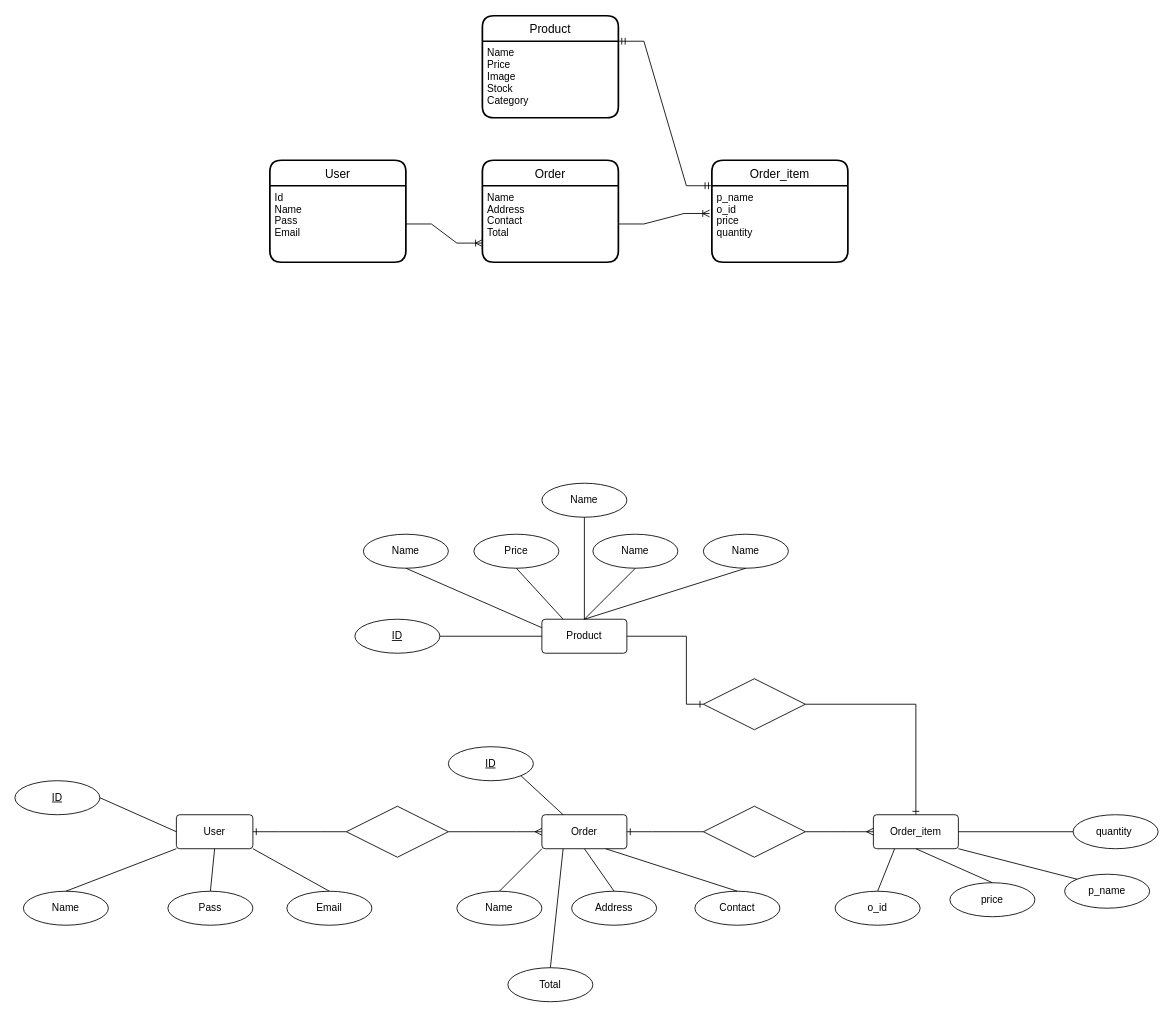
This 1173x1017 diagram has some shape labels left out. The centre of each missing label's shape, as x and y in pixels:
"Connected to" goes at (x=754, y=704).
"Contain" goes at (x=754, y=831).
"have" goes at (x=397, y=831).
